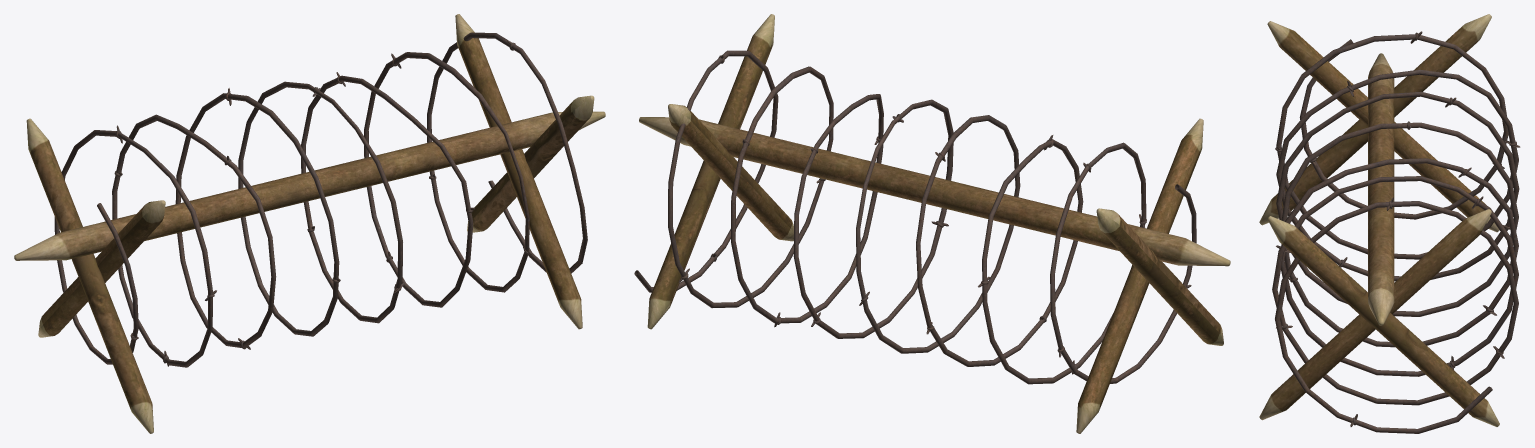
File: fence.obj
3 views of the same model, side by side, from view 1: azimuth 30°, elevation 25°; view 2: azimuth 150°, elevation 25°; view 3: azimuth 270°, elevation 25° (orthographic). The views are drawn at different scales.
Parts seen in each view (by area): view 1: barbed_fence_wire_Mesh, barbed_fence_middle_log_Circle, barbed_fence_left_x_Circle.001, barbed_fence_right_x_Circle.004; view 2: barbed_fence_wire_Mesh, barbed_fence_middle_log_Circle, barbed_fence_left_x_Circle.001, barbed_fence_right_x_Circle.004; view 3: barbed_fence_wire_Mesh, barbed_fence_right_x_Circle.004, barbed_fence_left_x_Circle.001, barbed_fence_middle_log_Circle.
Boxes of the visible parts, <box> form: barbed_fence_wire_Mesh: <box>54,32,587,367</box>; barbed_fence_middle_log_Circle: <box>14,111,605,260</box>; barbed_fence_left_x_Circle.001: <box>26,118,165,433</box>; barbed_fence_right_x_Circle.004: <box>455,14,594,329</box>; barbed_fence_wire_Mesh: <box>634,50,1196,384</box>; barbed_fence_middle_log_Circle: <box>639,117,1230,266</box>; barbed_fence_left_x_Circle.001: <box>1076,118,1223,433</box>; barbed_fence_right_x_Circle.004: <box>647,14,793,329</box>; barbed_fence_wire_Mesh: <box>1272,31,1520,433</box>; barbed_fence_right_x_Circle.004: <box>1259,209,1499,426</box>; barbed_fence_left_x_Circle.001: <box>1259,14,1499,232</box>; barbed_fence_middle_log_Circle: <box>1368,53,1394,325</box>.
Size of the model in its own units: 3.49 by 1.35 by 1.43.
